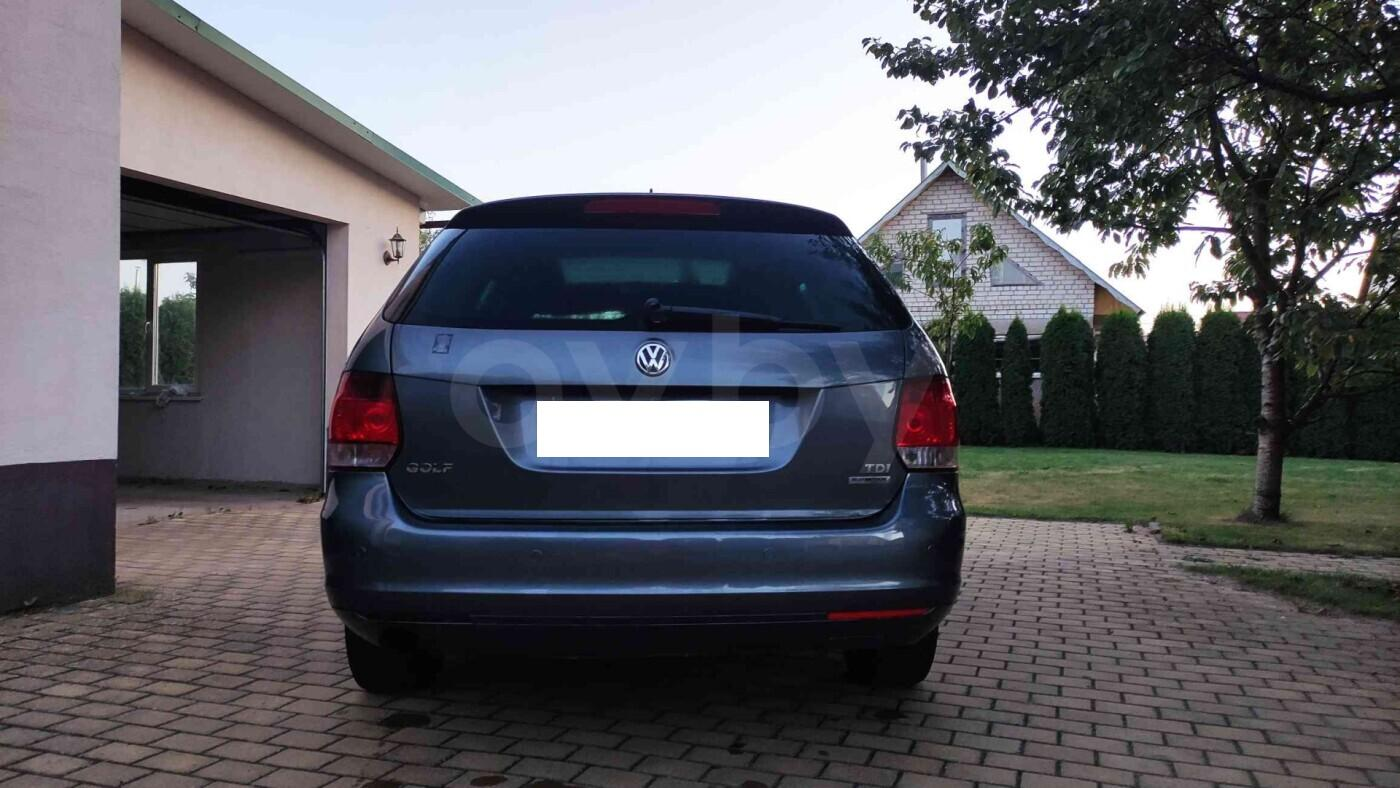Golf_2008-2013: (309, 192, 966, 694)
